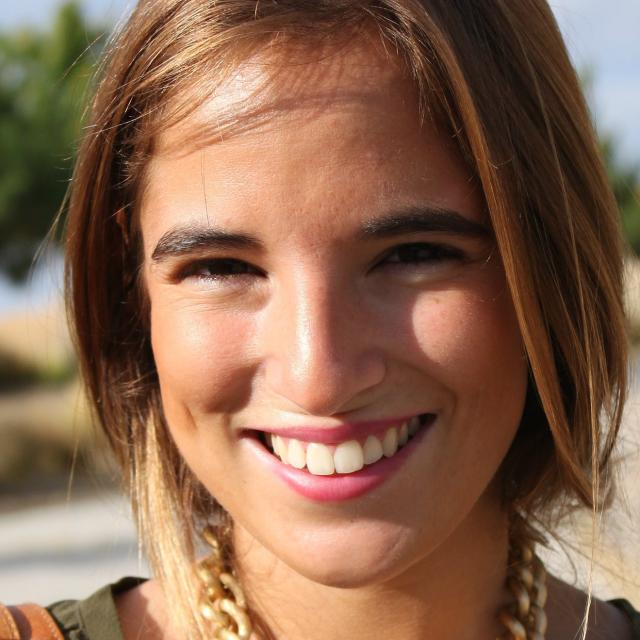Normal: (139, 52, 527, 595)
